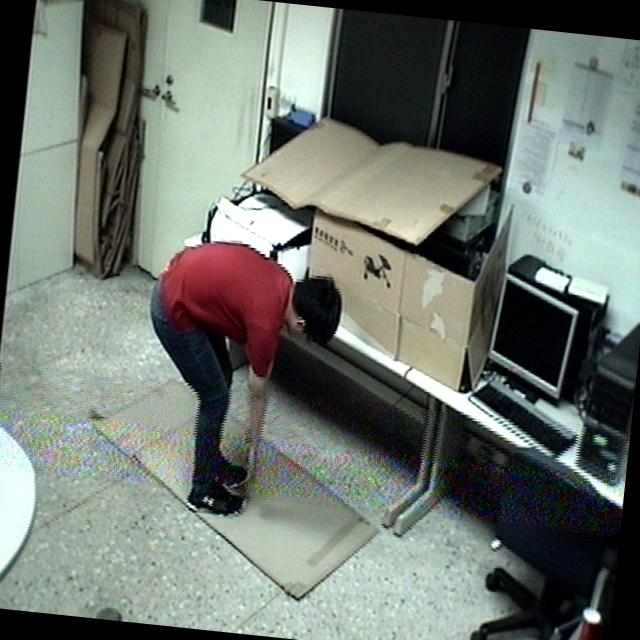bend: (120, 228, 350, 537)
